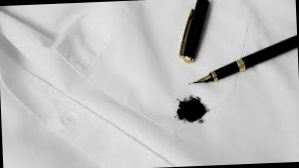ink: (175, 96, 208, 121)
